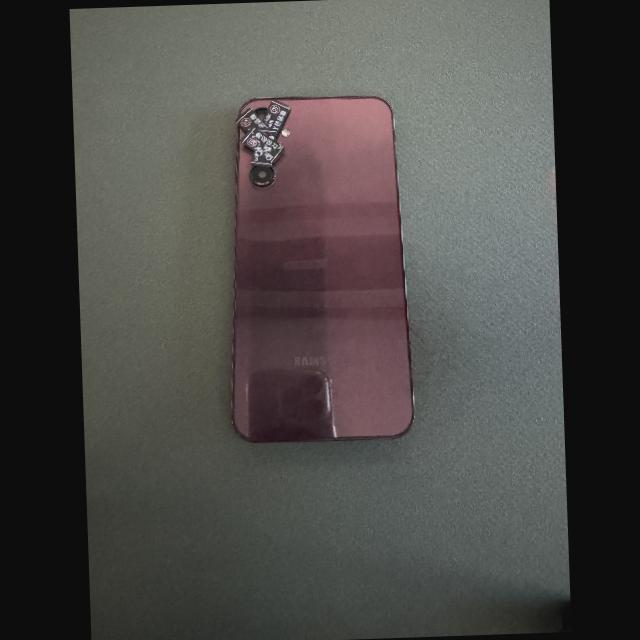lens: (251, 166, 275, 185), (254, 107, 266, 120)
phone: (231, 96, 414, 443)
sticker: (240, 127, 284, 163), (234, 107, 275, 140), (260, 99, 291, 137), (250, 151, 272, 166)
